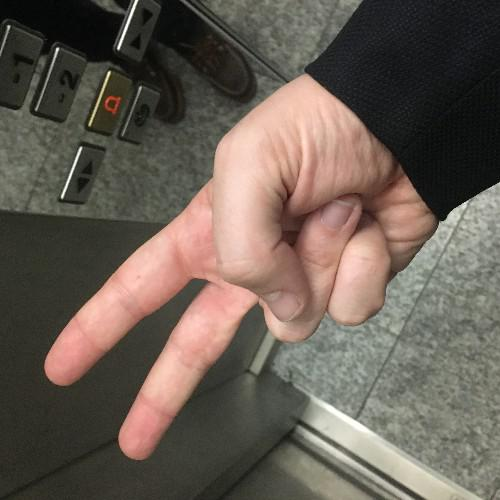scissors: (39, 75, 446, 463)
